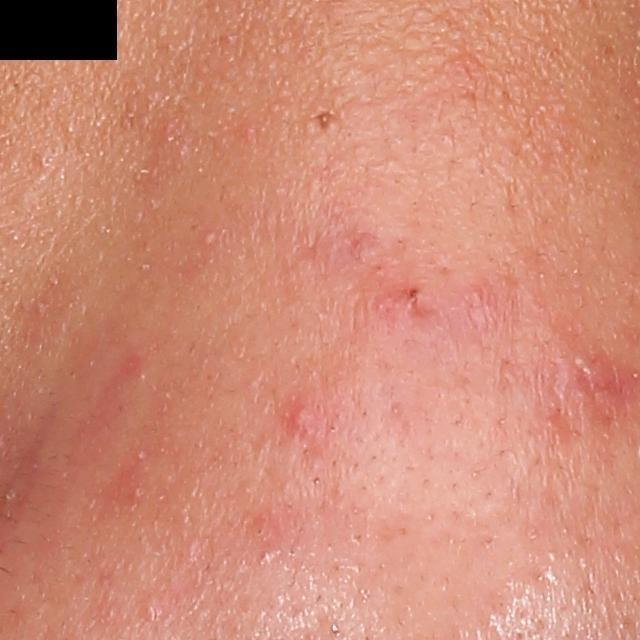comedo: (136, 599, 162, 621)
nevus: (313, 105, 334, 139)
papule: (550, 350, 626, 416), (368, 285, 421, 325), (284, 401, 330, 447)
